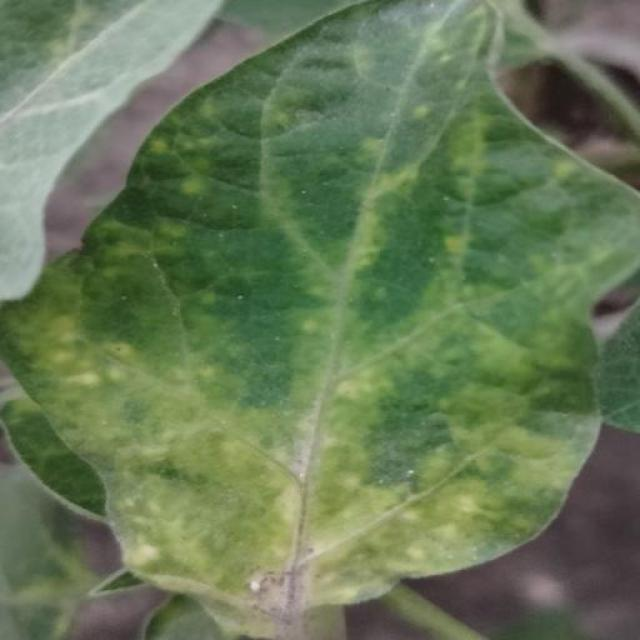leaf_spot: (7, 306, 345, 640), (294, 377, 592, 622), (44, 240, 398, 342), (124, 107, 321, 284), (378, 279, 544, 406), (451, 92, 505, 212), (536, 262, 582, 389), (361, 164, 424, 242), (522, 249, 621, 287), (436, 220, 492, 271), (414, 15, 457, 60), (343, 32, 381, 78), (548, 152, 578, 185), (409, 100, 438, 132), (361, 136, 391, 156)
